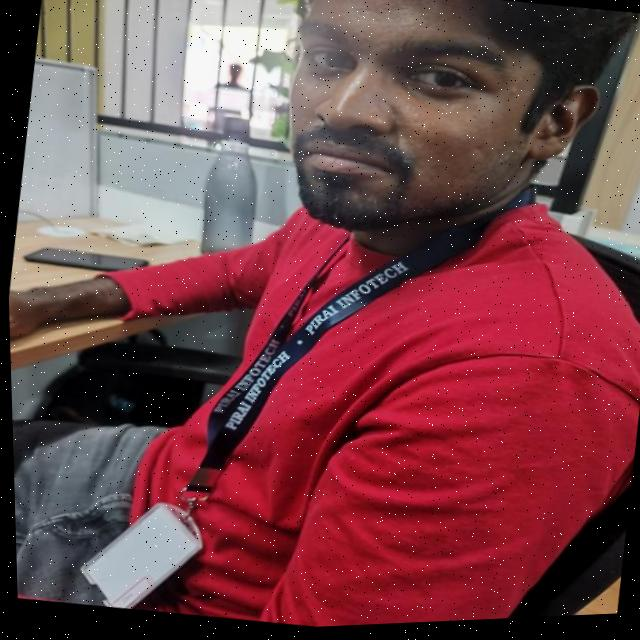id_card: (55, 157, 543, 638)
